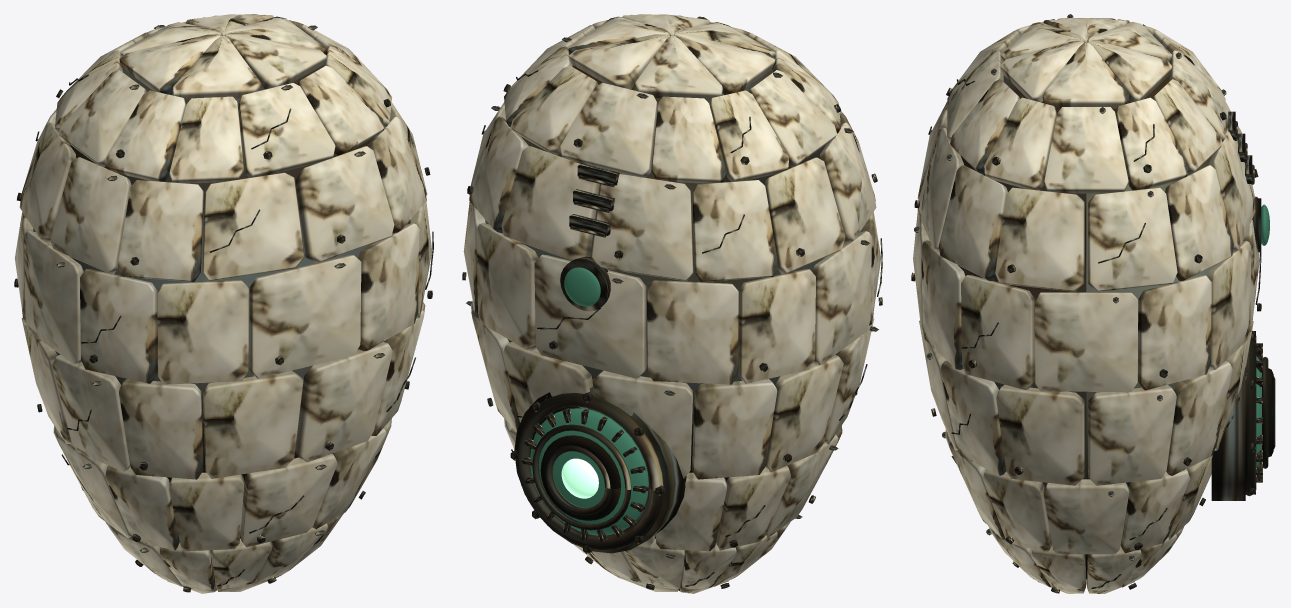
Rendered from body-wanderer-v3.glb.
3 renders of one model, left to right at view 1: azimuth 30°, elevation 25°; view 2: azimuth 150°, elevation 25°; view 3: azimuth 270°, elevation 25°, orthographic.
Visible parts, largest first — view 1: wanderer-ceramic, wanderer-steel, wanderer-brass; view 2: wanderer-ceramic, wanderer-brass, wanderer-steel, wanderer-glass, wanderer-light; view 3: wanderer-ceramic, wanderer-steel, wanderer-brass, wanderer-glass.
Boxes of the visible parts, x1,y1,x2,y2 form: wanderer-ceramic: (14, 14, 432, 593); wanderer-steel: (33, 20, 433, 586); wanderer-brass: (14, 89, 432, 592); wanderer-ceramic: (463, 14, 881, 593); wanderer-brass: (462, 84, 882, 589); wanderer-steel: (466, 16, 882, 586); wanderer-glass: (530, 267, 648, 535); wanderer-light: (561, 458, 598, 498); wanderer-ceramic: (913, 18, 1259, 593); wanderer-steel: (914, 14, 1273, 588); wanderer-brass: (911, 88, 1275, 593); wanderer-glass: (1256, 204, 1269, 466).
Bounding box in the file's own units: 1.04 × 1.5 × 0.9186.
5 materials, 3 textured.
